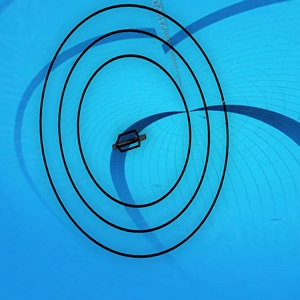circle: (36, 4, 231, 262)
submarine: (113, 131, 147, 154)
